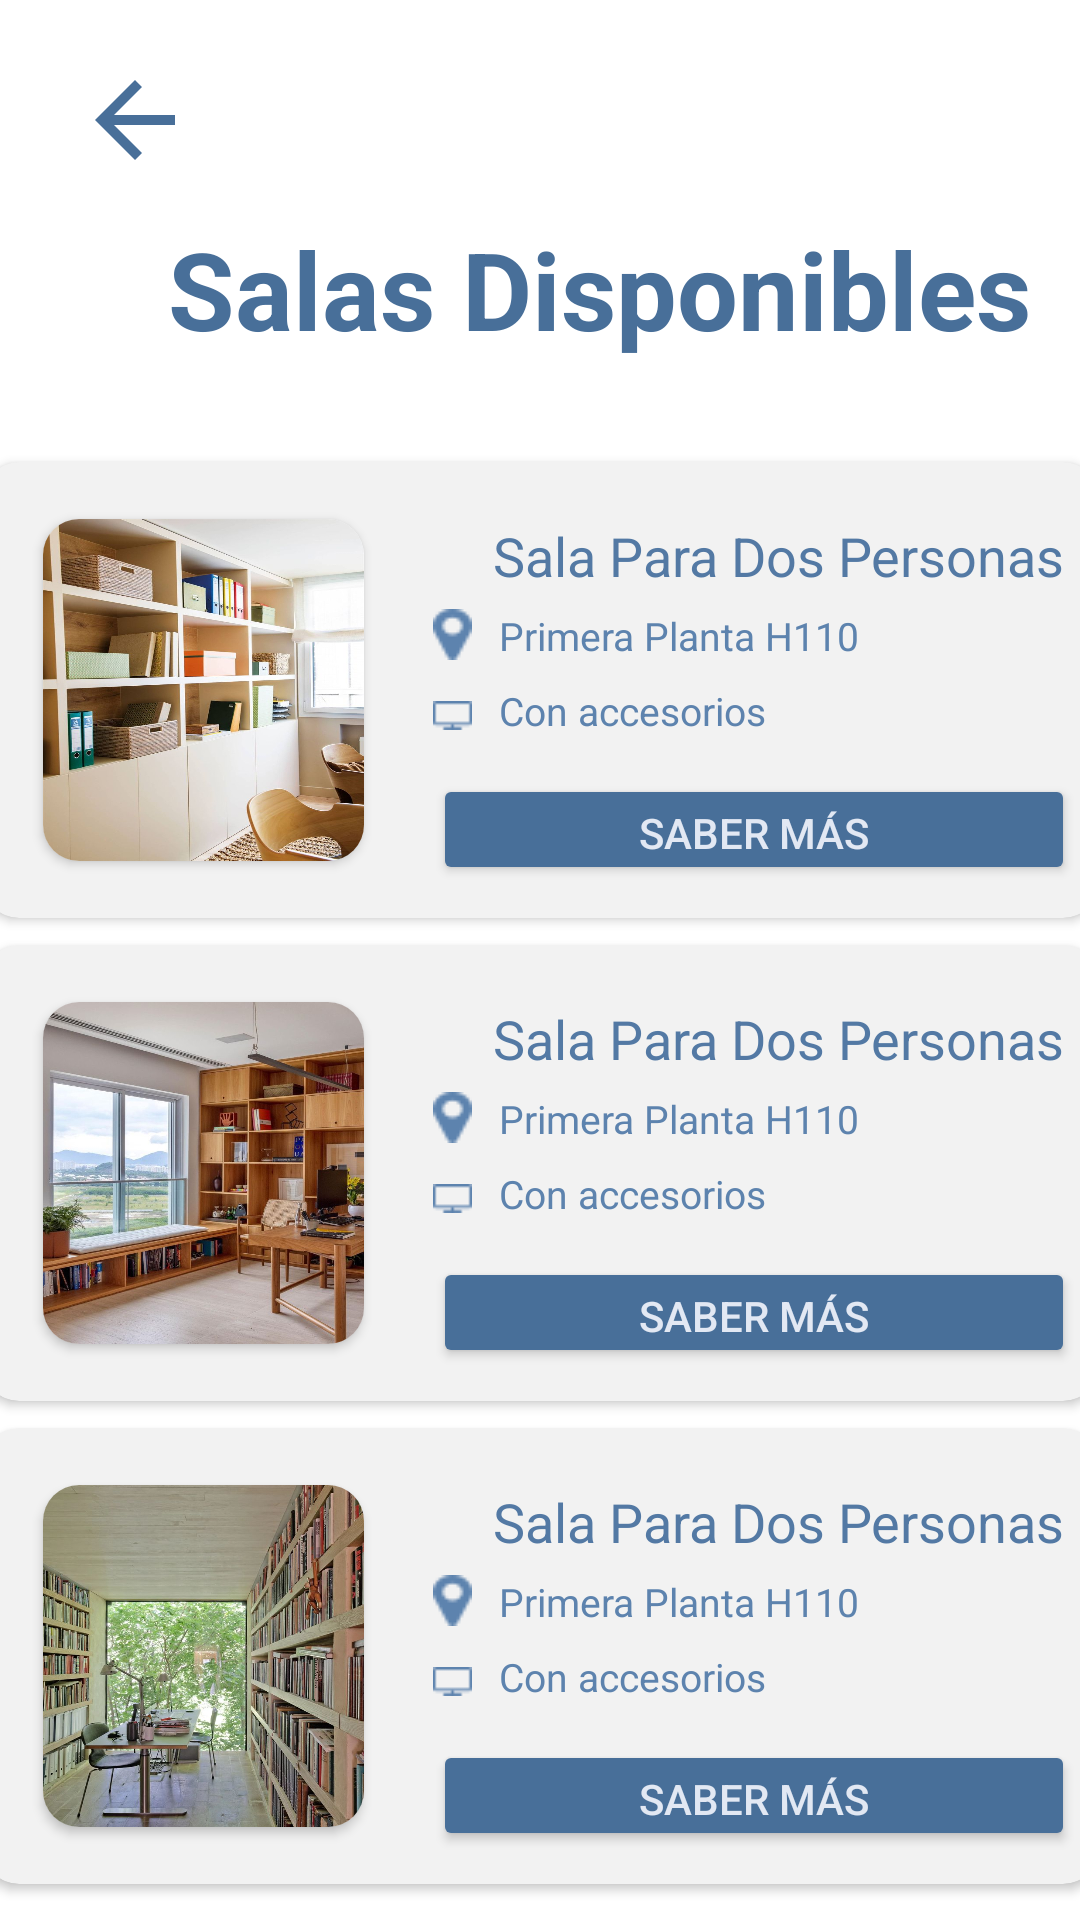

Locate icon controls on the screen. Image size 1080 × 1920, boxes as bbox=[x1, y1, x2, y2].
computer: bbox=[433, 701, 472, 730], bbox=[433, 1184, 472, 1213], bbox=[433, 1667, 472, 1696]
pin: bbox=[433, 609, 472, 660], bbox=[433, 1092, 472, 1143], bbox=[433, 1575, 472, 1626]
